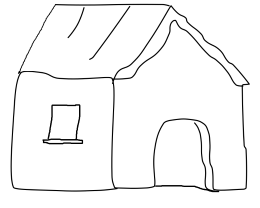big_house: (4, 0, 257, 203)
door: (146, 106, 221, 199)
open_window: (39, 98, 85, 154)
roof: (9, 1, 254, 92)
wall: (105, 67, 253, 197)
